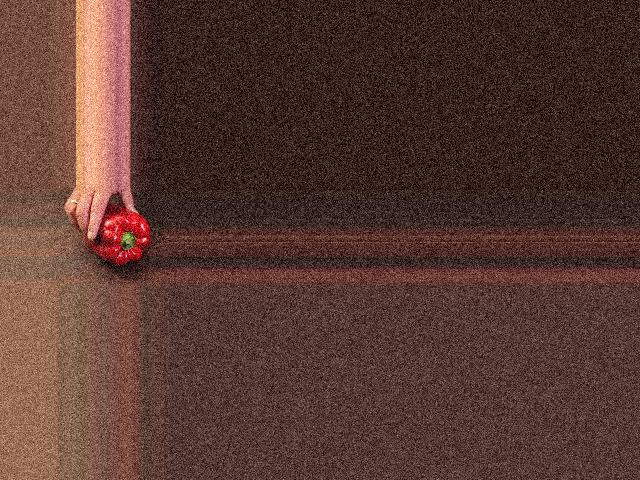bell_pepper: (89, 207, 151, 266)
